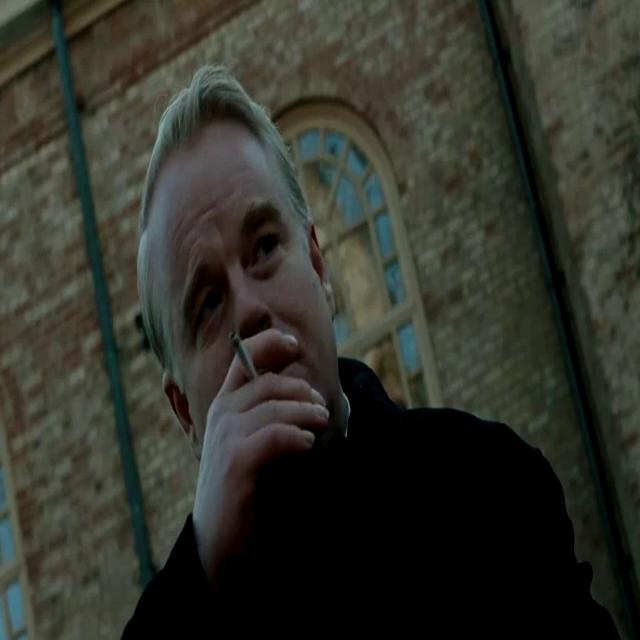Smooking: (230, 319, 267, 378)
